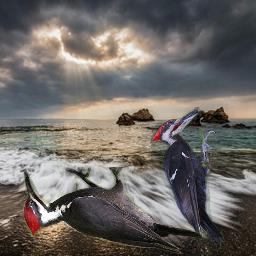Woodpecker: (23, 167, 202, 254), (151, 107, 224, 247)
